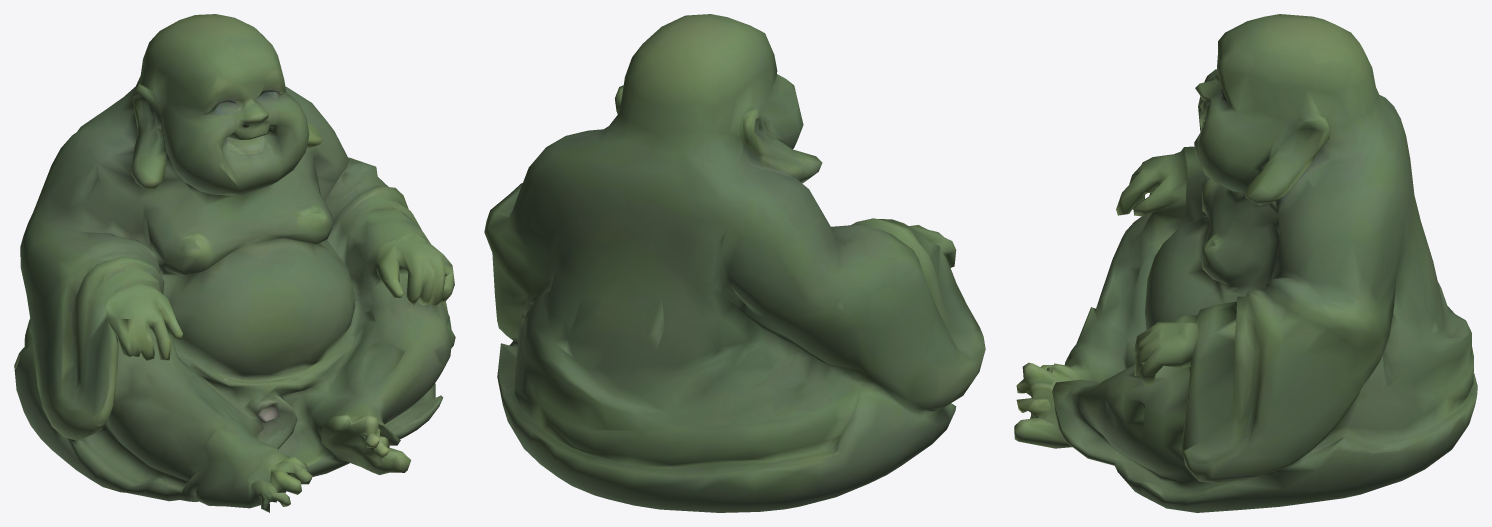
The model's file is mile.glb.
The picture shows the model from 3 angles, left to right: view 1: azimuth 30°, elevation 25°; view 2: azimuth 150°, elevation 25°; view 3: azimuth 270°, elevation 25°; orthographic projection. The views are drawn at different scales.
Visible parts, largest first — view 1: tripo_node_17326591-ef1f-4542-87da-dd559080f1e3; view 2: tripo_node_17326591-ef1f-4542-87da-dd559080f1e3; view 3: tripo_node_17326591-ef1f-4542-87da-dd559080f1e3.
Boxes of the visible parts, left/top/right/bottom form: tripo_node_17326591-ef1f-4542-87da-dd559080f1e3: left=14, top=14, right=455, bottom=512; tripo_node_17326591-ef1f-4542-87da-dd559080f1e3: left=484, top=14, right=985, bottom=512; tripo_node_17326591-ef1f-4542-87da-dd559080f1e3: left=1014, top=14, right=1477, bottom=512.
Bounding box in the file's own units: 1 × 0.9679 × 0.9584.
1 material, 1 textured.
